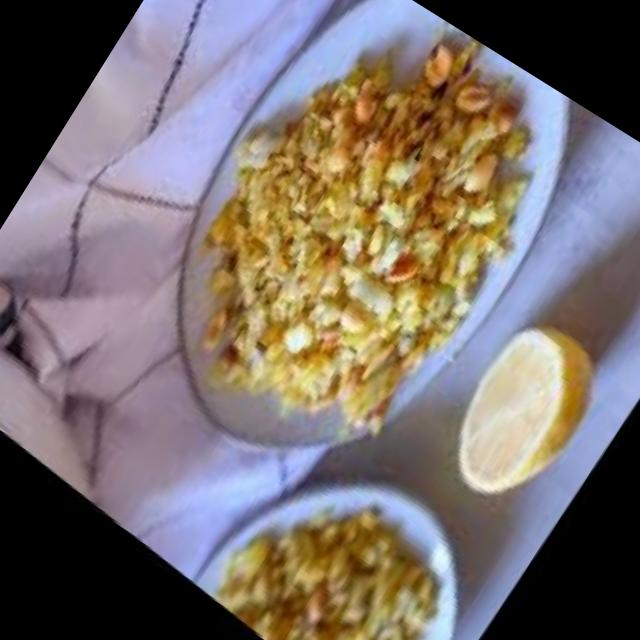poha: (111, 0, 602, 502), (199, 454, 493, 640)
